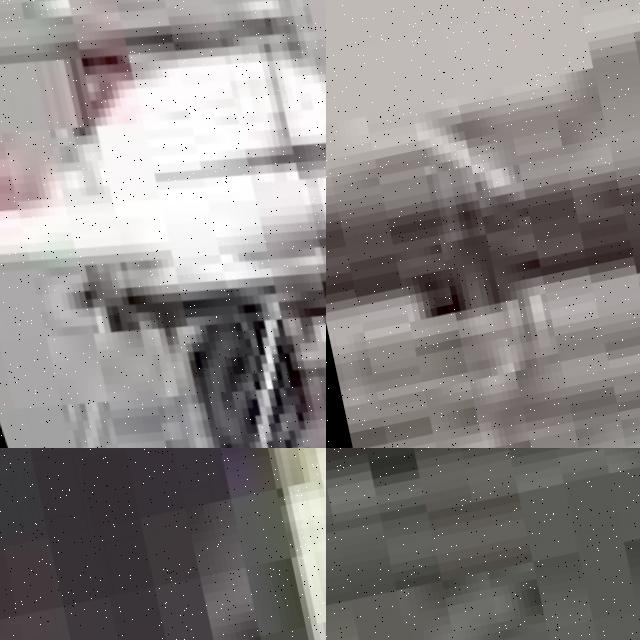drone: (0, 0, 326, 448)
